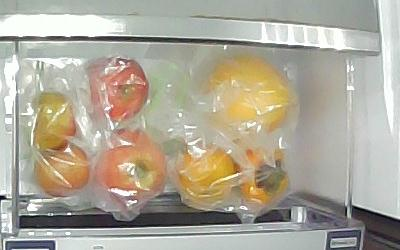apple_vinyl: (93, 130, 168, 205), (84, 57, 150, 126)
grapefruit_vinyl: (203, 57, 291, 135)
persimmon_vinyl: (176, 146, 237, 206), (237, 148, 291, 207)
prune_vinyl: (33, 143, 93, 199), (29, 91, 78, 151)
